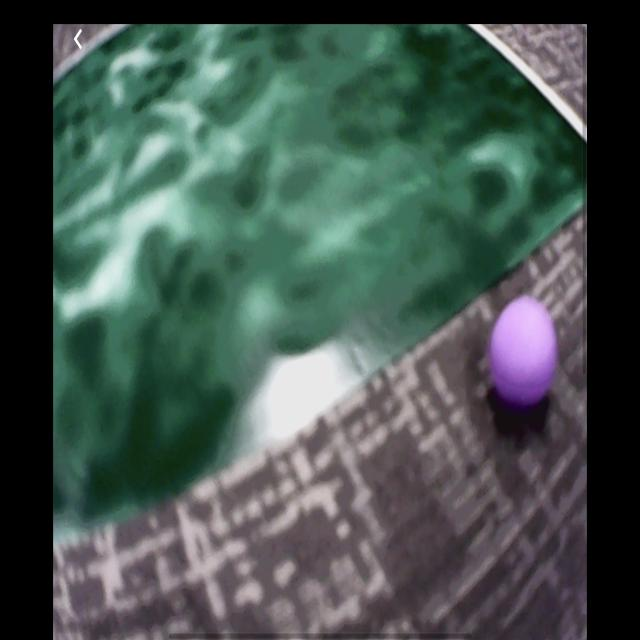ball: (488, 297, 558, 409)
